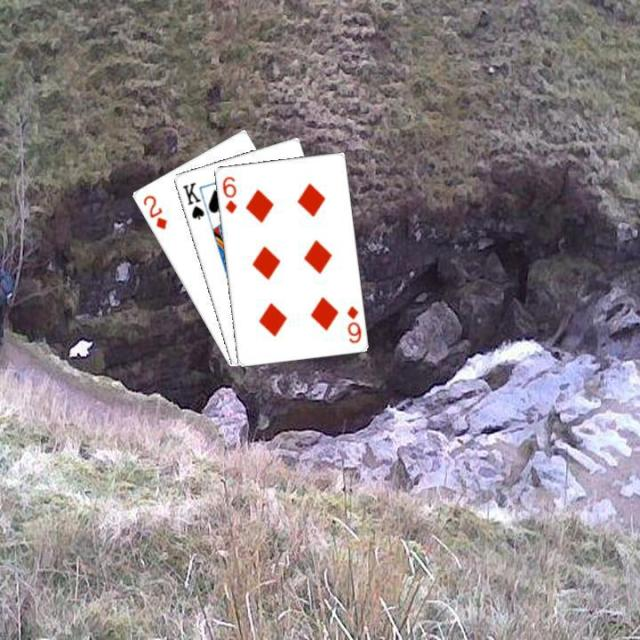2D: (139, 191, 169, 231)
6D: (343, 301, 363, 345), (218, 172, 238, 215)
KS: (178, 178, 206, 221)
